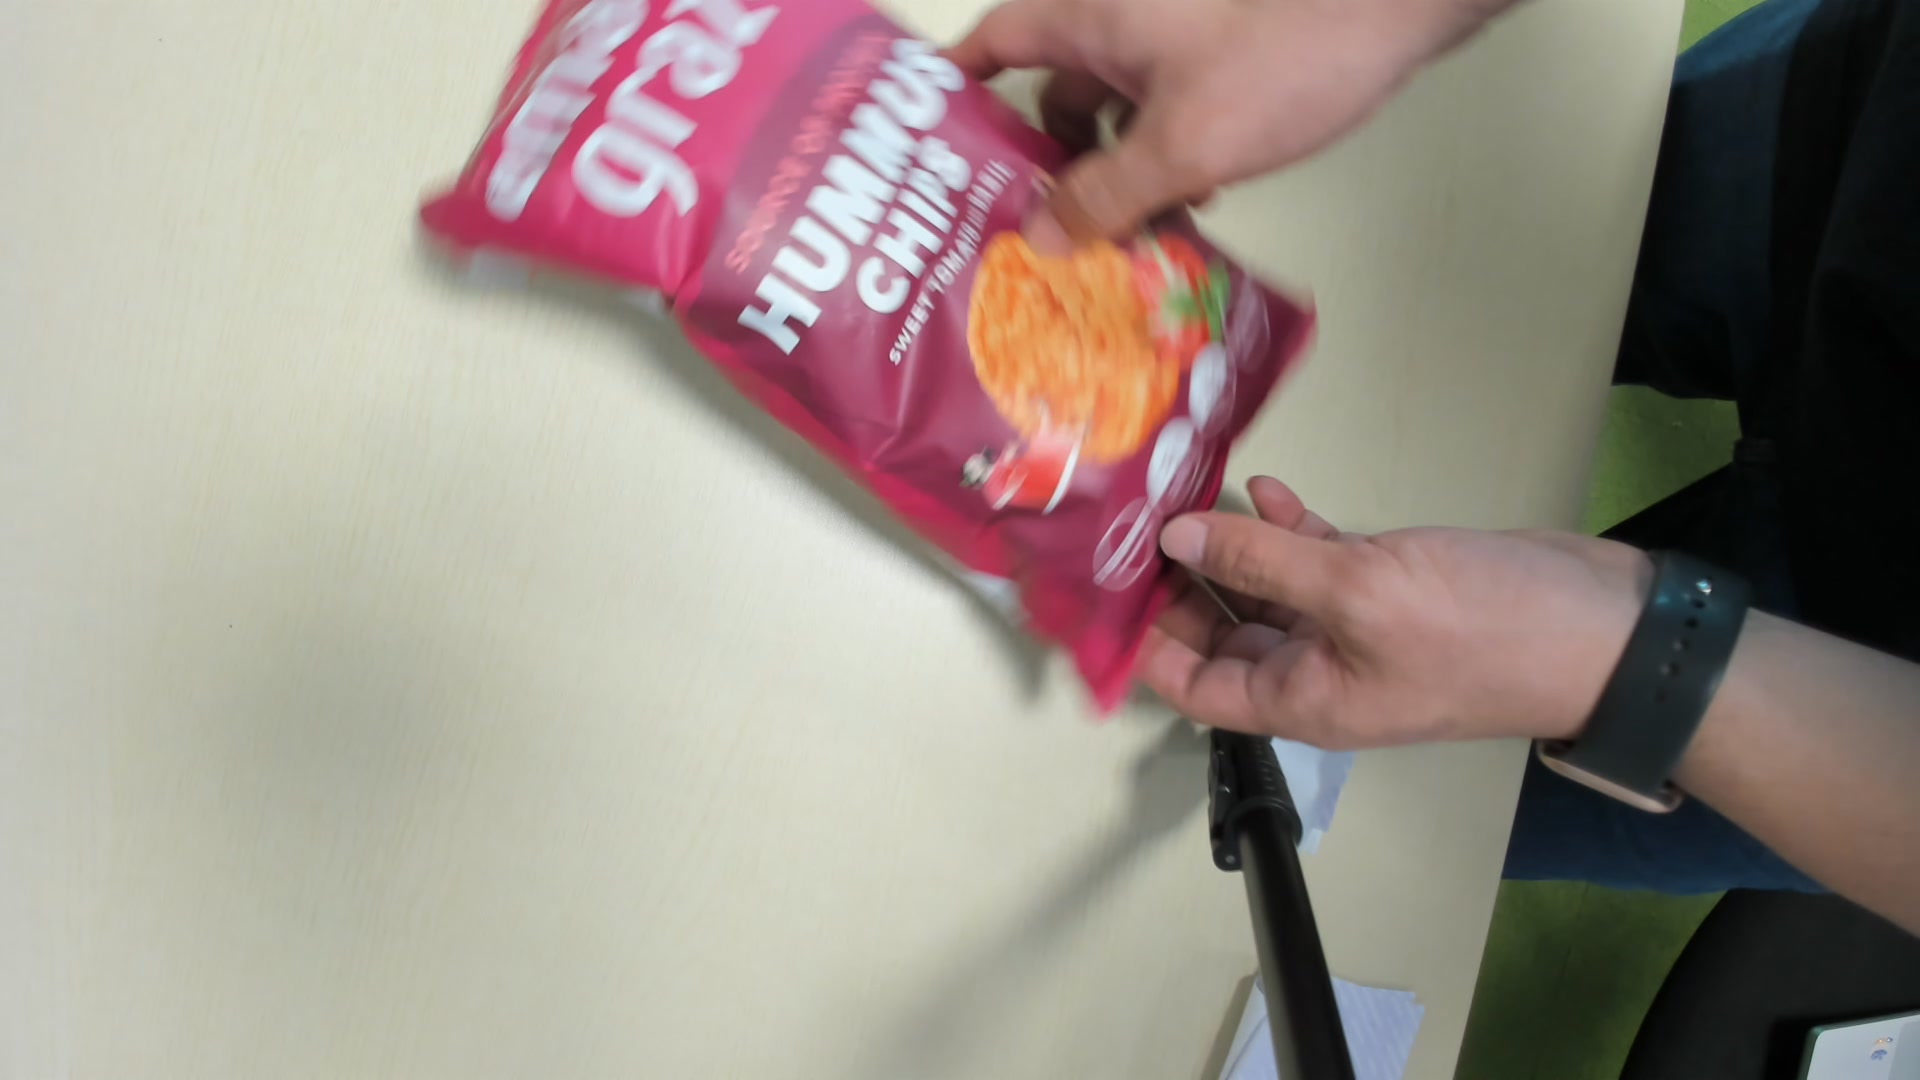PotatoChipsKeropok_100-199g_NonHalal_NonHealthy: (421, 1, 1309, 708)
